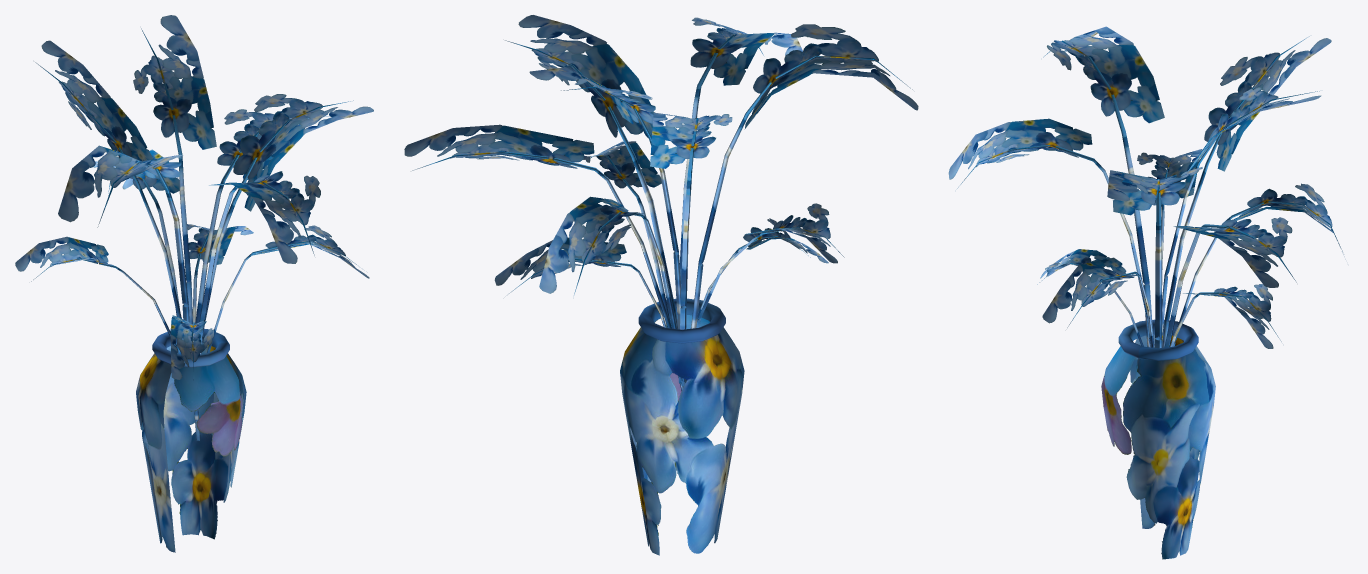
The model's file is Tall vase plant.fbx.
3 renders of one model, left to right at view 1: azimuth 30°, elevation 25°; view 2: azimuth 150°, elevation 25°; view 3: azimuth 270°, elevation 25°, orthographic. The views are drawn at different scales.
Parts seen in each view (by area): view 1: Tall_vase_plant; view 2: Tall_vase_plant; view 3: Tall_vase_plant.
Boxes of the visible parts, x1,y1,x2,y2 form: Tall_vase_plant: (15,15,373,552); Tall_vase_plant: (404,15,918,555); Tall_vase_plant: (948,26,1345,559).
Size of the model in its own units: 20.61 by 24.95 by 19.06.
